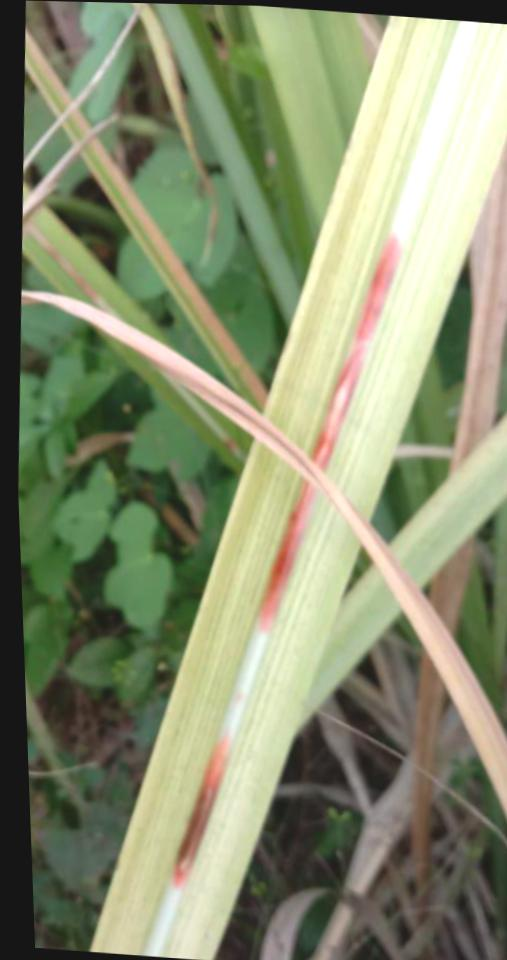RedRot: (310, 231, 402, 473), (252, 477, 315, 634), (169, 734, 230, 887)
